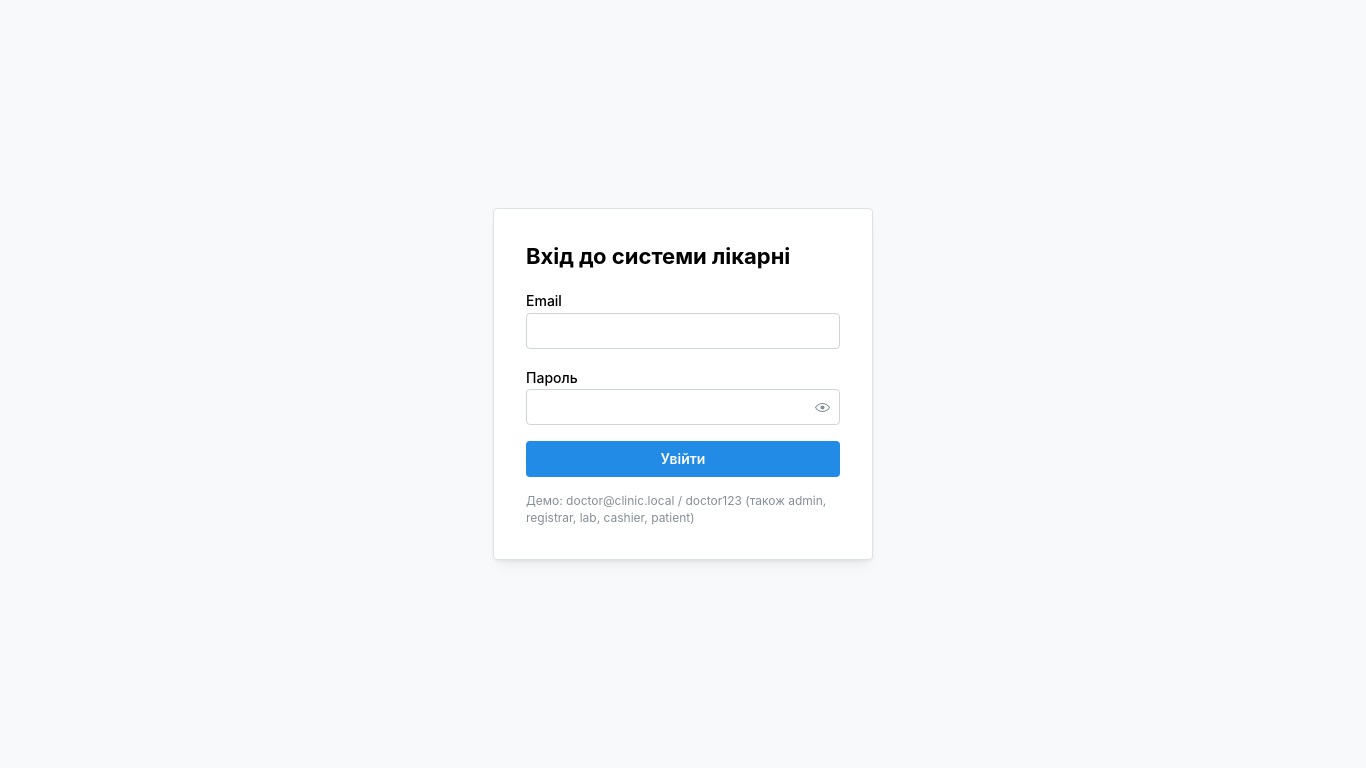
Test: web smoke (MSW) › login: wrong password shows the API error, right one lands on the dashboard
The width and height of the screenshot is (1366, 768).
Type "doctor@clinic.local" into the field labelled "Email".
click(683, 331); type("doctor@clinic.local")  # box [526,313,840,349]
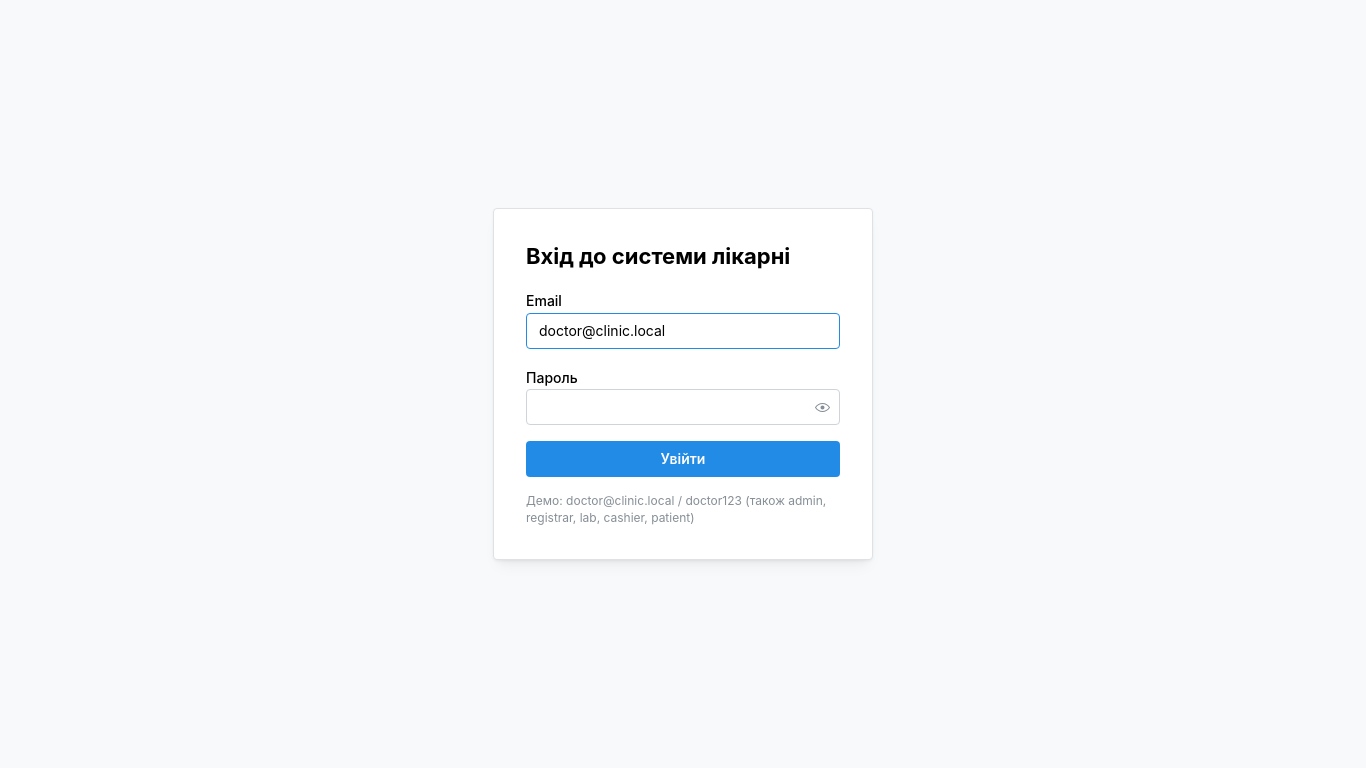
Type "wrong" into the password field labelled "Пароль".
click(683, 407); type("wrong")  # box [527,390,839,424]
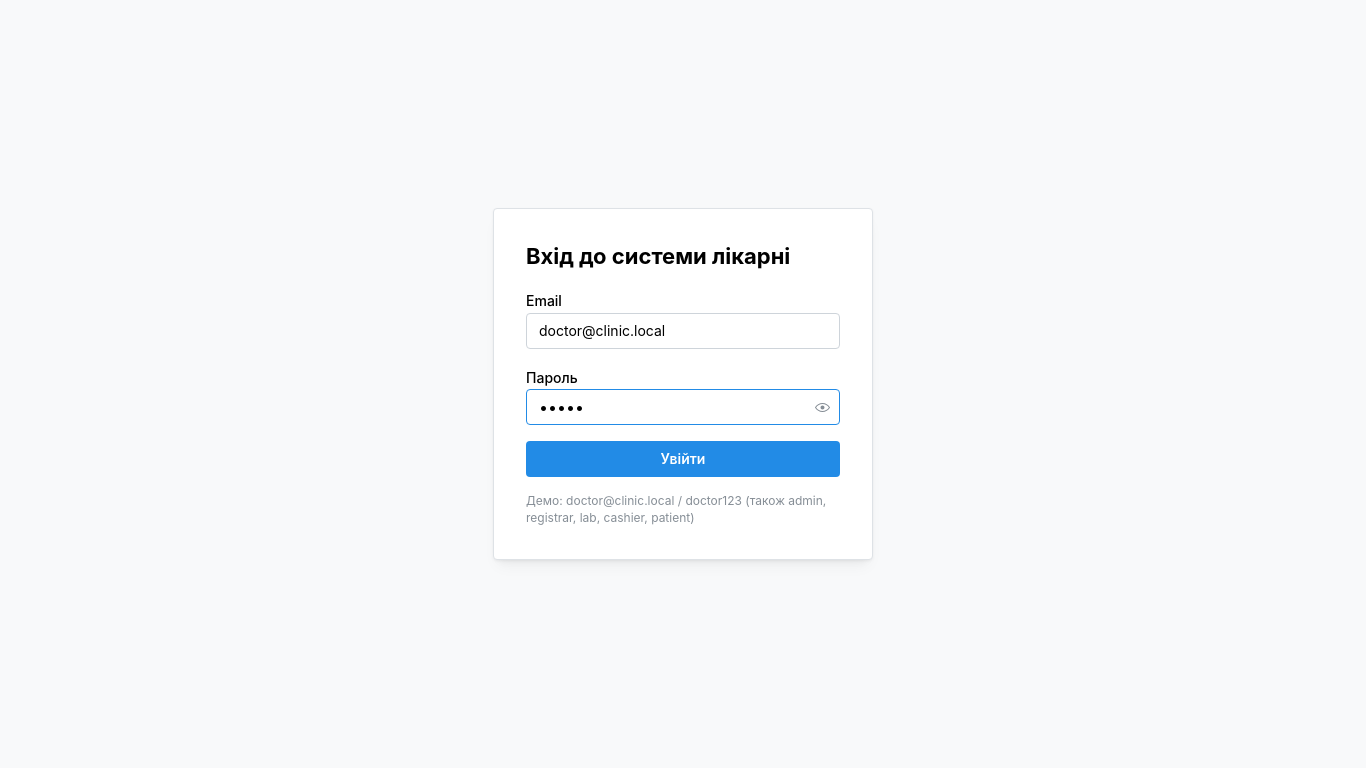
Click the button "Увійти".
click(683, 459)  # box [526,441,840,477]
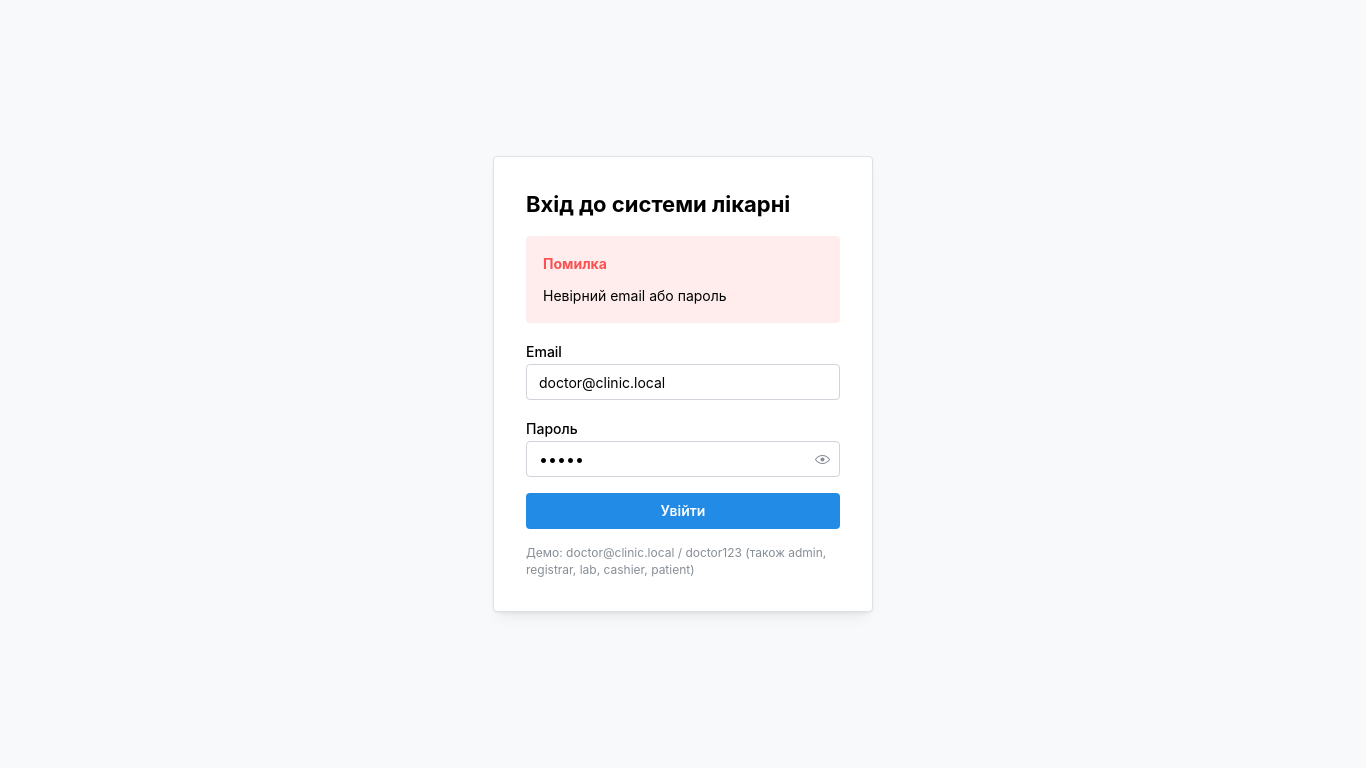
Check: the text "Невірний email або пароль" is shown, box [543,287,727,304]
Clear the password field labelled "Пароль" at (683, 459), box [527,442,839,476]
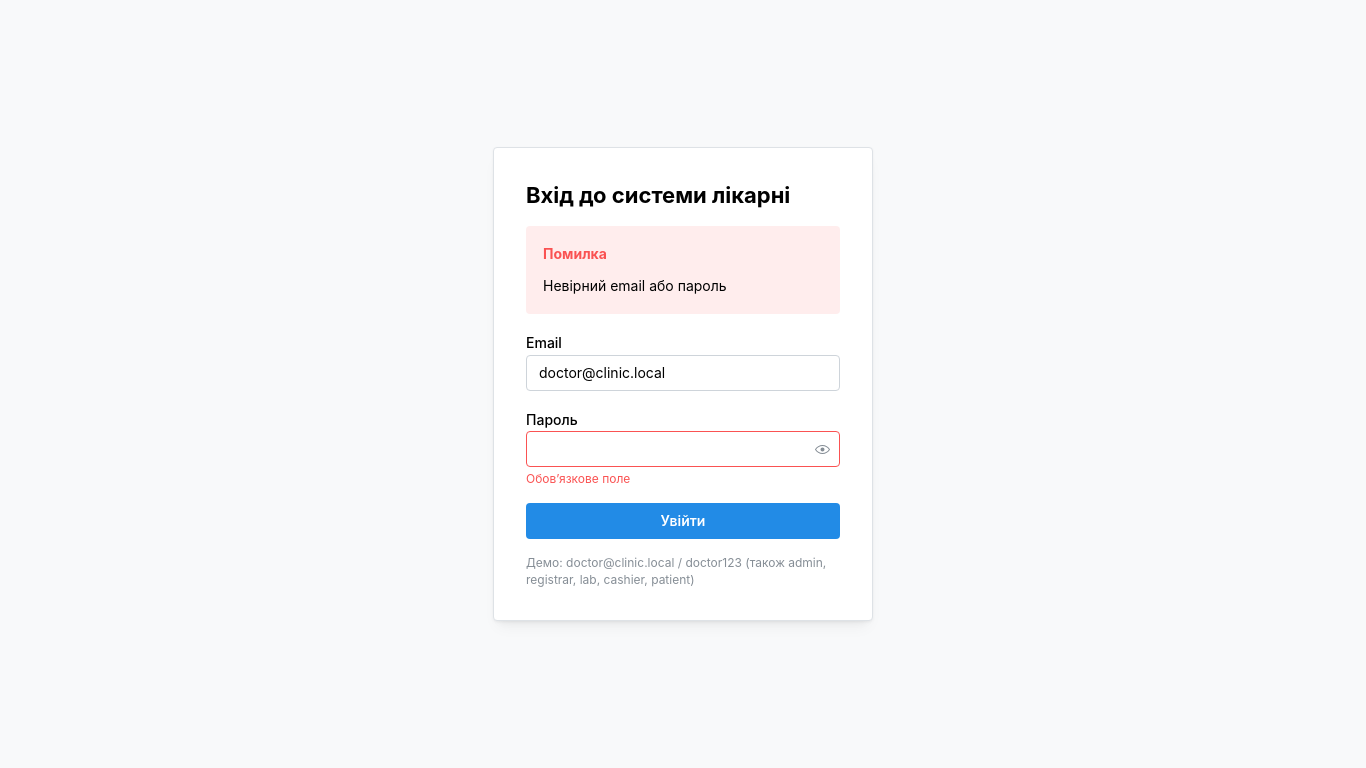
Type "doctor123" into the password field labelled "Пароль".
click(683, 449); type("doctor123")  # box [527,432,839,466]
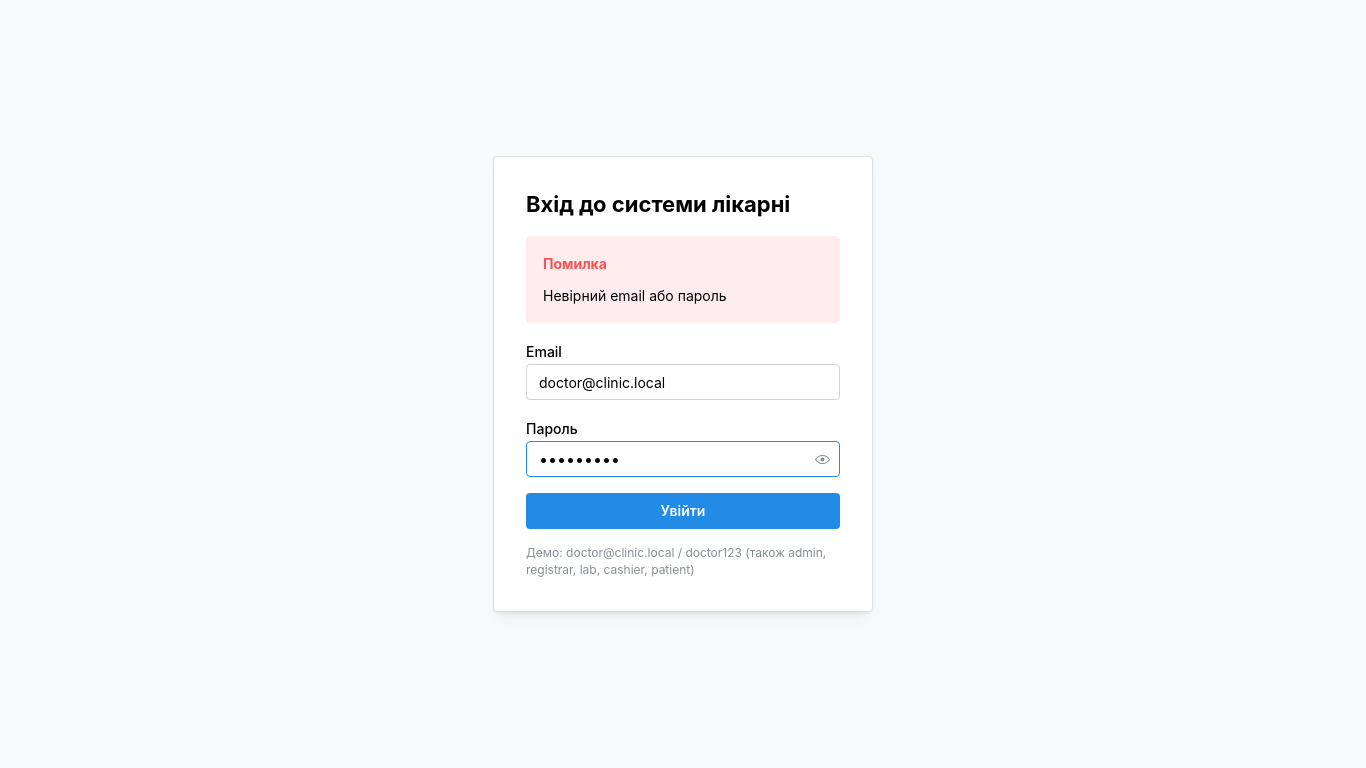
Click the button "Увійти".
click(683, 511)  # box [526,493,840,529]
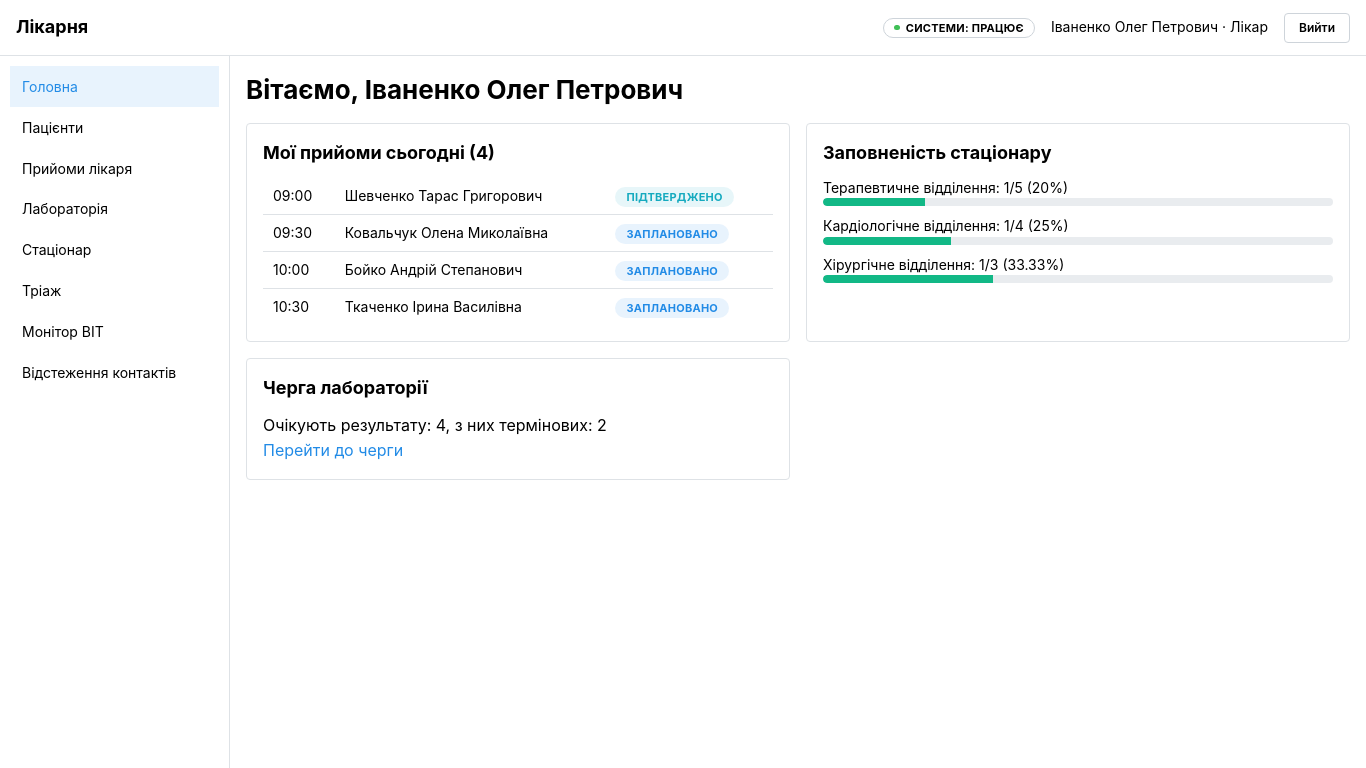
Check: the heading "Вітаємо, Іваненко Олег Петрович" is shown, box [246,74,683,105]
Check: the heading "Мої прийоми сьогодні (4)" is shown, box [263,142,495,163]
Check: the link "Прийоми лікаря" is shown, box [22,160,132,177]
